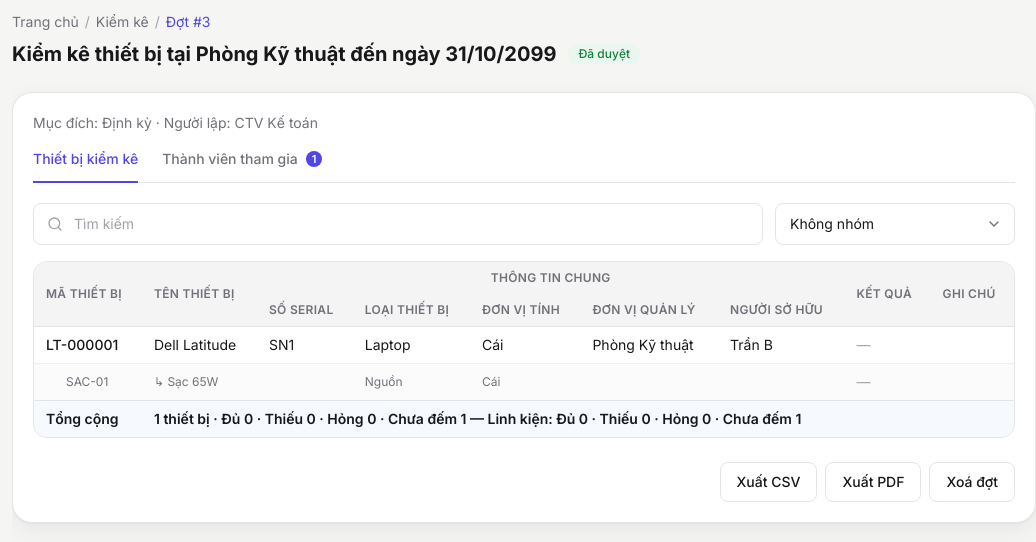
Test case: TP Kế toán + Đã duyệt: "Xoá đợt" → confirm → badge Đã xóa, nút biến mất
Click the button "Xoá đợt" at (972, 482), box [930,462,1015,502]
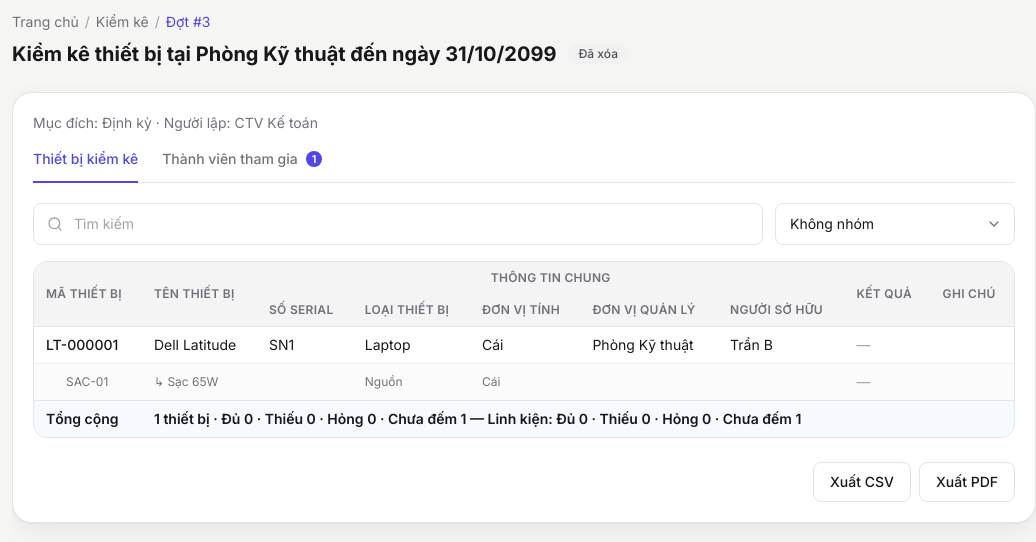
Now the text "Đã xóa" is shown, box [568,44,628,64]
Now the button "Xoá đợt" is gone
